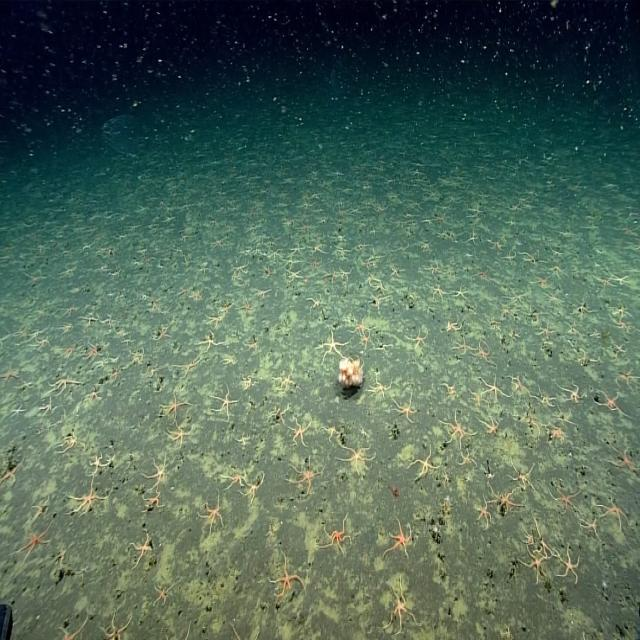brittle-stars: (385, 581, 416, 631), (271, 557, 304, 598), (16, 521, 52, 558), (69, 480, 106, 515), (288, 458, 321, 497), (322, 516, 352, 554), (532, 517, 556, 561), (442, 412, 472, 447), (556, 544, 581, 584), (384, 518, 410, 556), (601, 495, 630, 529), (22, 496, 49, 532), (612, 442, 640, 476), (490, 484, 520, 514), (315, 331, 346, 360), (340, 446, 372, 474), (100, 612, 132, 640), (200, 496, 224, 532), (411, 450, 438, 482), (509, 460, 536, 491), (521, 548, 547, 580), (552, 483, 579, 512), (162, 391, 188, 421), (131, 534, 155, 566), (0, 456, 24, 488), (595, 388, 622, 416), (481, 375, 506, 403), (147, 456, 171, 485), (520, 410, 544, 439), (212, 388, 235, 418), (57, 618, 88, 640), (18, 324, 49, 346), (396, 395, 419, 424), (288, 416, 310, 446), (242, 474, 264, 504), (50, 542, 72, 572), (50, 373, 79, 395), (175, 354, 201, 377), (168, 422, 191, 447), (60, 429, 82, 455), (264, 405, 290, 427), (476, 497, 494, 528), (560, 380, 583, 404), (222, 464, 245, 488), (198, 333, 224, 354), (510, 377, 533, 400), (231, 623, 262, 640), (154, 581, 175, 606), (578, 515, 599, 540), (276, 369, 298, 392), (88, 452, 109, 476), (480, 414, 501, 438), (370, 376, 392, 398), (615, 369, 638, 390), (164, 623, 192, 640), (142, 488, 162, 511), (123, 349, 144, 370), (549, 420, 567, 444), (0, 364, 21, 384), (608, 315, 631, 333), (59, 342, 79, 362), (409, 327, 428, 348), (453, 336, 472, 356), (506, 288, 526, 307), (572, 302, 596, 317), (476, 342, 492, 364), (8, 403, 26, 422), (535, 390, 554, 408), (352, 315, 369, 335), (468, 388, 488, 405), (61, 302, 79, 320), (555, 408, 573, 426), (155, 323, 172, 342), (87, 386, 103, 406), (577, 350, 597, 366), (520, 252, 546, 264), (424, 260, 441, 278), (544, 289, 562, 306), (232, 258, 249, 276), (306, 296, 324, 313), (86, 342, 102, 361), (593, 275, 614, 289), (446, 316, 462, 334), (206, 312, 224, 328), (41, 399, 56, 418), (370, 293, 389, 308), (322, 424, 342, 438), (450, 285, 467, 301), (537, 322, 553, 339), (458, 450, 474, 467), (430, 284, 445, 302), (239, 299, 254, 317), (99, 315, 118, 329), (532, 273, 548, 289), (286, 268, 303, 283), (388, 262, 402, 280), (288, 242, 303, 258), (614, 308, 634, 320), (324, 268, 340, 283), (611, 272, 628, 286), (548, 266, 567, 278), (268, 247, 283, 262), (338, 267, 353, 282), (442, 382, 457, 397), (610, 342, 625, 357), (211, 236, 225, 252), (242, 376, 258, 390), (373, 280, 389, 294), (564, 321, 580, 335), (94, 355, 108, 371), (233, 433, 250, 446), (334, 246, 351, 259), (307, 243, 327, 254), (254, 288, 272, 300), (14, 379, 32, 391), (189, 287, 202, 303), (81, 316, 98, 328), (359, 334, 372, 349), (217, 303, 233, 315), (500, 253, 516, 265), (310, 258, 322, 273), (114, 326, 128, 338), (365, 274, 379, 286), (489, 240, 504, 251), (243, 341, 258, 351), (362, 257, 374, 269), (122, 336, 134, 347), (475, 271, 488, 281), (222, 359, 238, 367), (108, 370, 117, 384), (109, 354, 120, 364), (443, 473, 450, 485)
